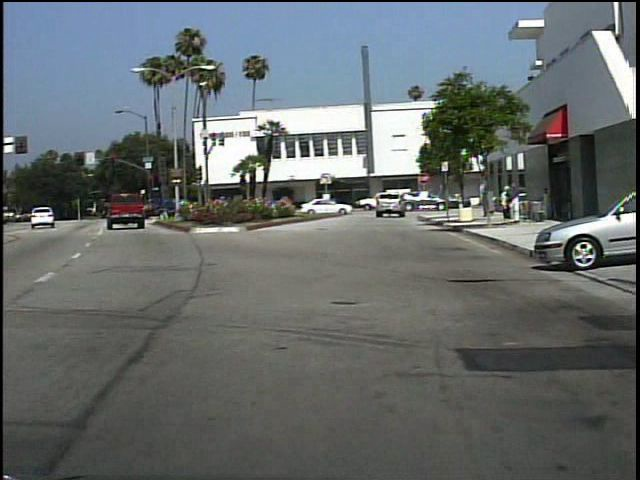person: (505, 182, 522, 224), (370, 190, 391, 219), (537, 184, 550, 222), (496, 184, 508, 220)
